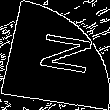N_W: (22, 30, 88, 80)
